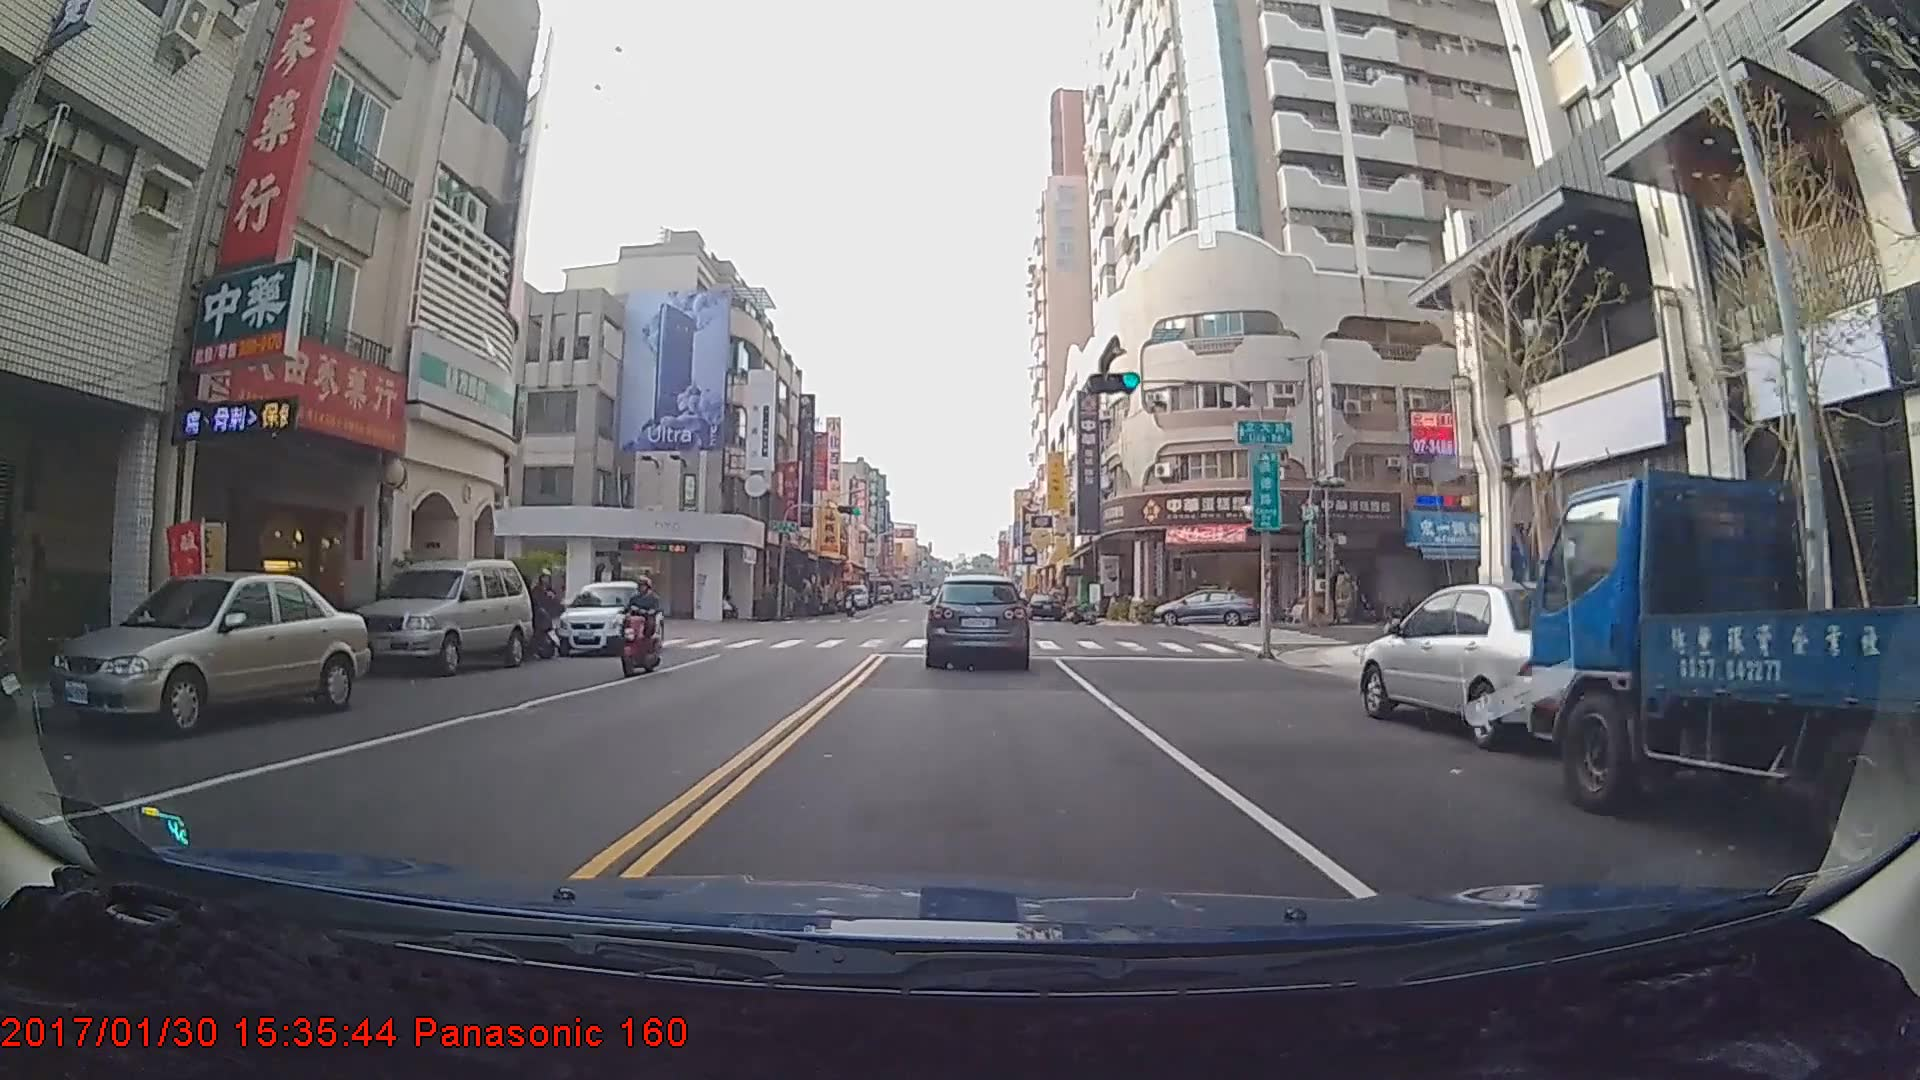rider: (609, 575, 659, 679), (837, 585, 858, 619)
vehicle: (1530, 466, 1920, 885), (48, 571, 364, 739), (1358, 579, 1639, 750), (348, 554, 533, 674), (926, 576, 1029, 669), (554, 577, 663, 654), (1151, 586, 1257, 625), (1024, 589, 1062, 620), (842, 580, 866, 608)
